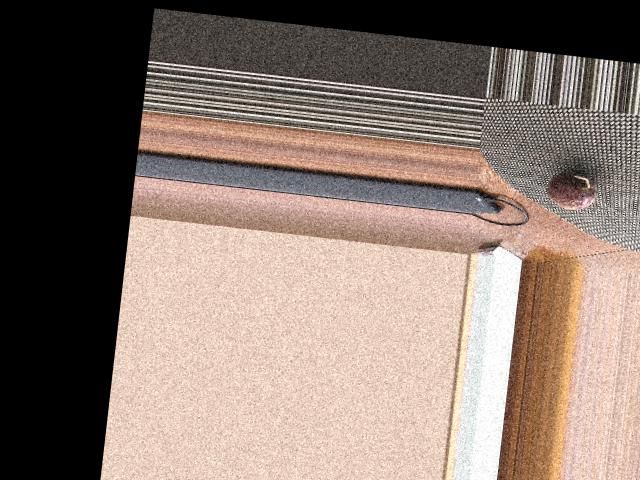beet: (544, 169, 597, 211)
